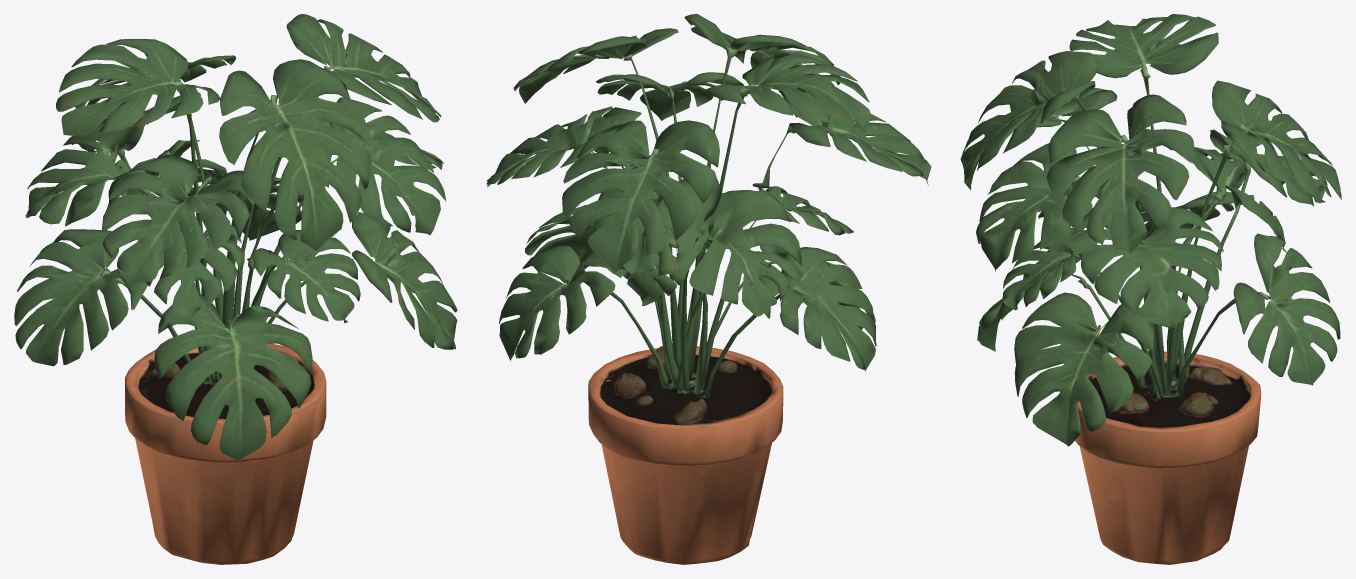
The model's file is plant_monstera.glb.
3 renders of one model, left to right at view 1: azimuth 30°, elevation 25°; view 2: azimuth 150°, elevation 25°; view 3: azimuth 270°, elevation 25°, orthographic. The views are drawn at different scales.
Parts seen in each view (by area): view 1: prop; view 2: prop; view 3: prop.
Part boxes in pixels (bbox=[...]): prop: bbox=[14, 14, 457, 564]; prop: bbox=[486, 14, 931, 564]; prop: bbox=[960, 14, 1341, 564].
Size of the model in its own units: 0.9613 by 1.15 by 0.8439.
Materials: 1 (1 with a texture image).
